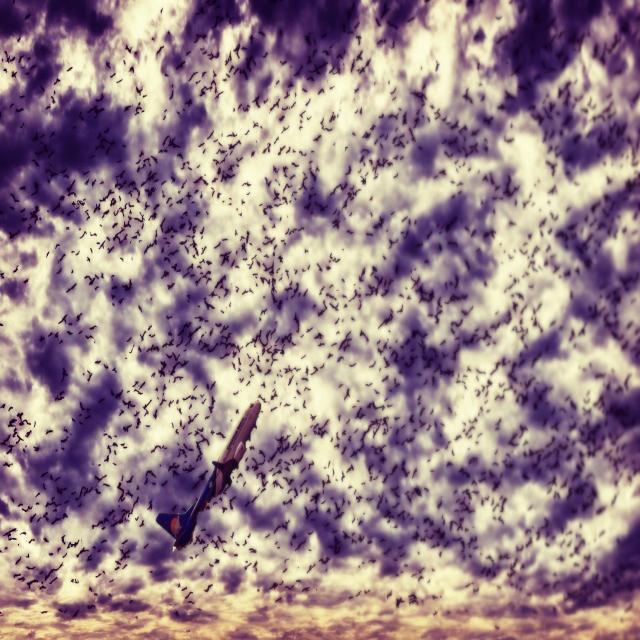airplane: (155, 399, 261, 552)
